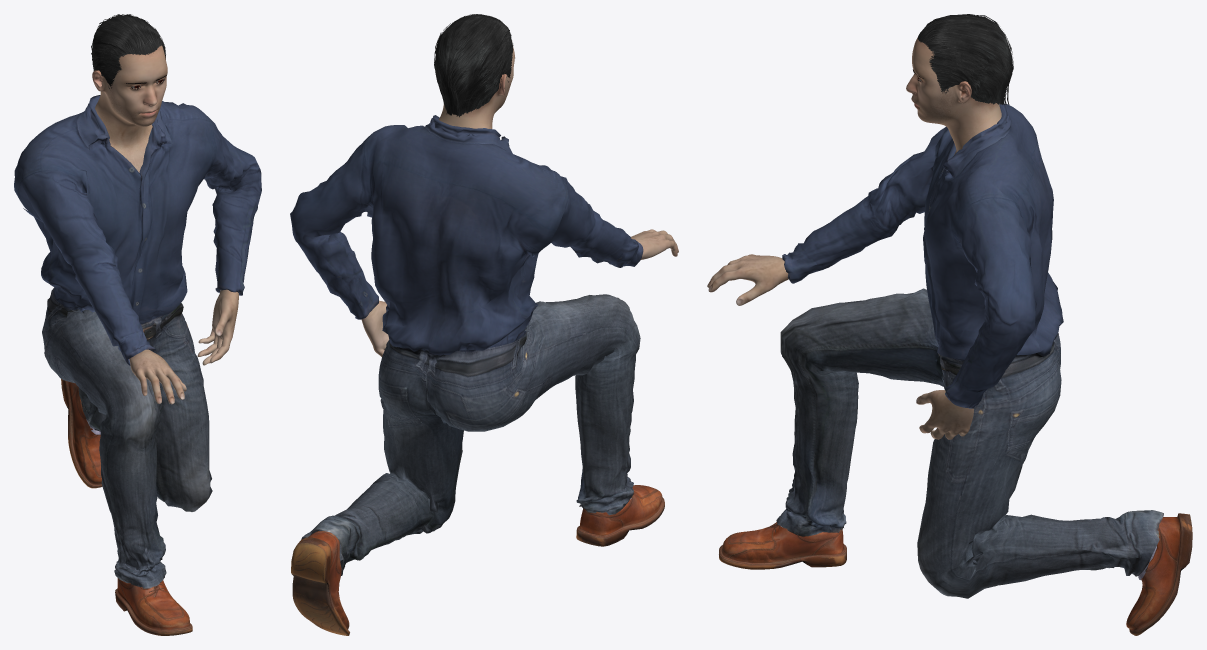
Rendered from inspector-wheel.glb.
3 views of the same model, side by side, from view 1: azimuth 30°, elevation 25°; view 2: azimuth 150°, elevation 25°; view 3: azimuth 270°, elevation 25° (orthographic). The views are drawn at different scales.
Parts seen in each view (by area): view 1: male_casualsuit01, Avery | anatomical body, shoes01, short04; view 2: male_casualsuit01, shoes01, short04, Avery | anatomical body; view 3: male_casualsuit01, shoes01, Avery | anatomical body, short04.
Boxes of the visible parts, x1,y1,x2,y2 form: male_casualsuit01: (14, 95, 261, 588); Avery | anatomical body: (92, 45, 238, 404); shoes01: (61, 379, 192, 635); short04: (91, 14, 165, 88); male_casualsuit01: (290, 115, 643, 575); shoes01: (291, 485, 664, 635); short04: (434, 14, 513, 117); Avery | anatomical body: (361, 46, 678, 356); male_casualsuit01: (776, 103, 1163, 598); shoes01: (719, 513, 1192, 635); Avery | anatomical body: (707, 37, 1001, 439); short04: (918, 14, 1013, 104).
Size of the model in its own units: 0.6706 by 1.38 by 1.03.
Materials: 9 (9 with a texture image).
